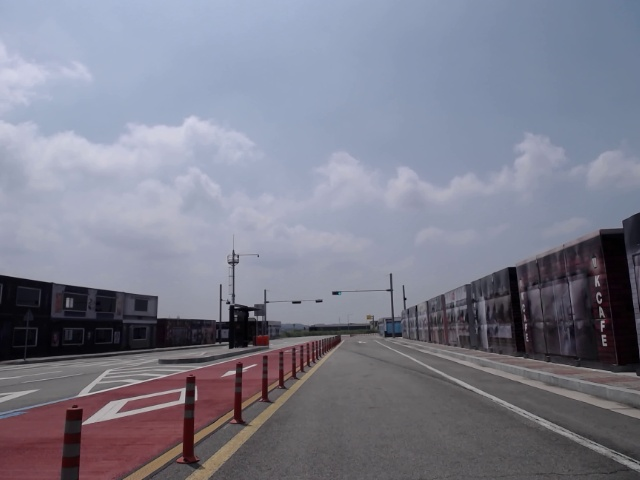green_3: (331, 290, 342, 296)
